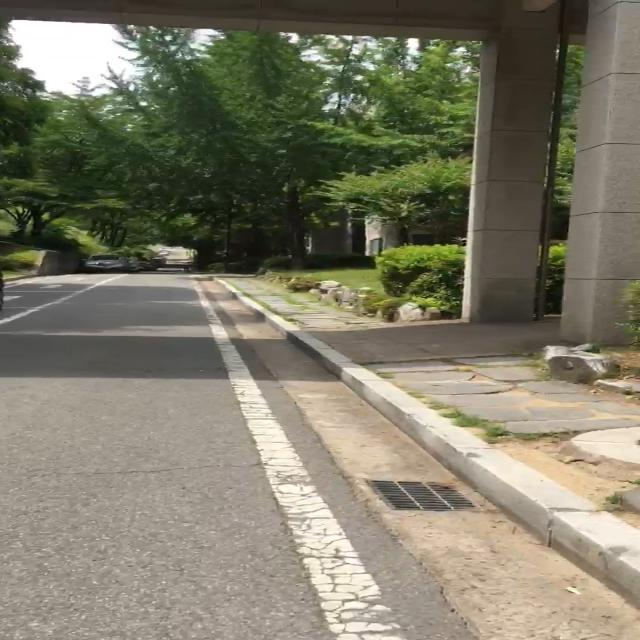obstacle: (81, 252, 165, 274)
road: (0, 274, 640, 640)
sidewalk: (217, 268, 640, 518)
